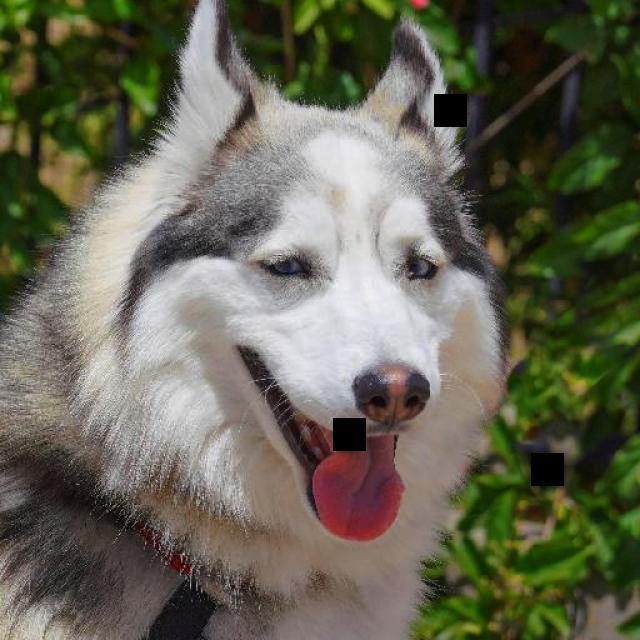adult_dog: (0, 1, 511, 640)
